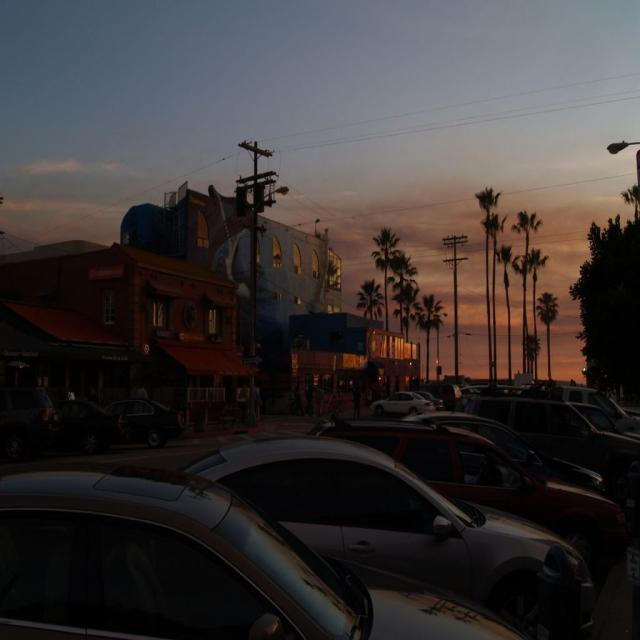car: (366, 386, 434, 422)
